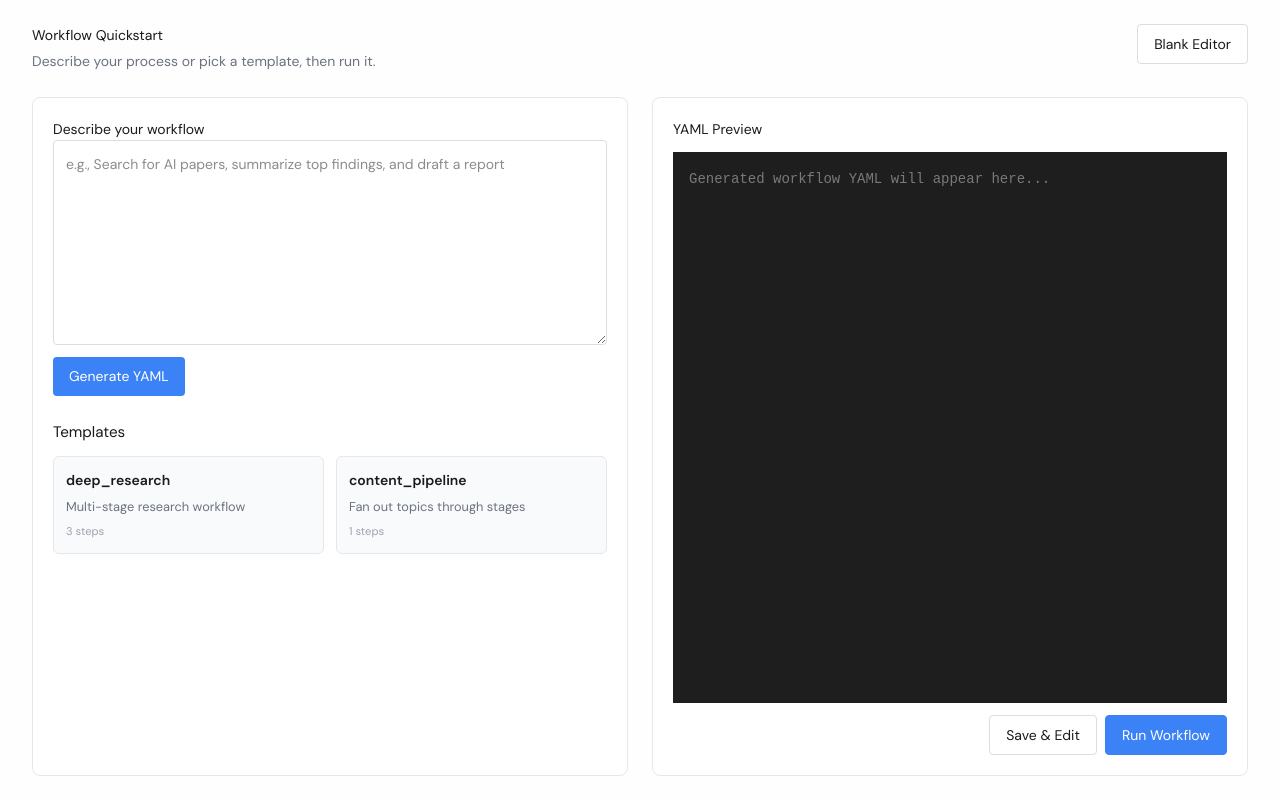
Test: WorkflowQuickstart › generates YAML from natural language prompt
expect the text "deep_research" is shown: met, box [66,469,170,491]
Type "Search and summarize papers" into the text box with placeholder "Search for AI papers" at (330, 243), box [53,140,607,345]
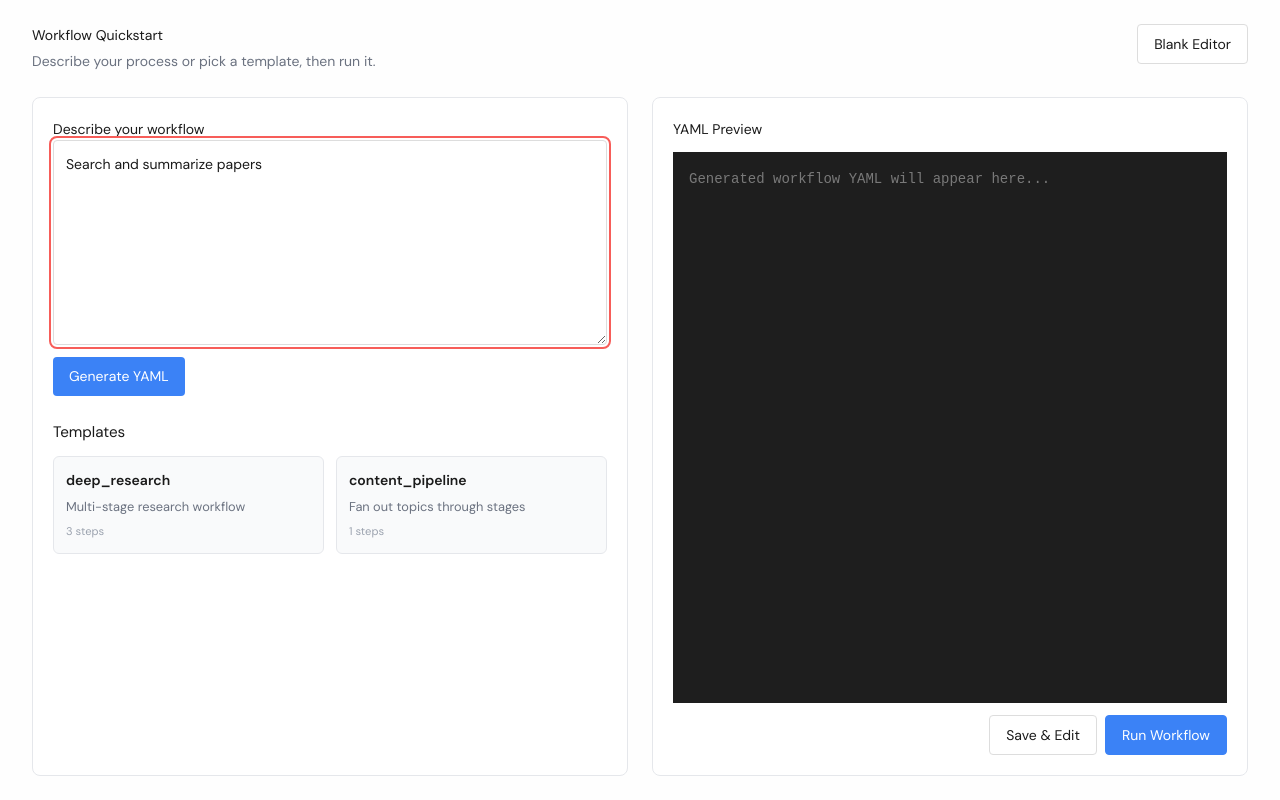
Click the button "Generate YAML" at (119, 376), box [53,357,185,396]
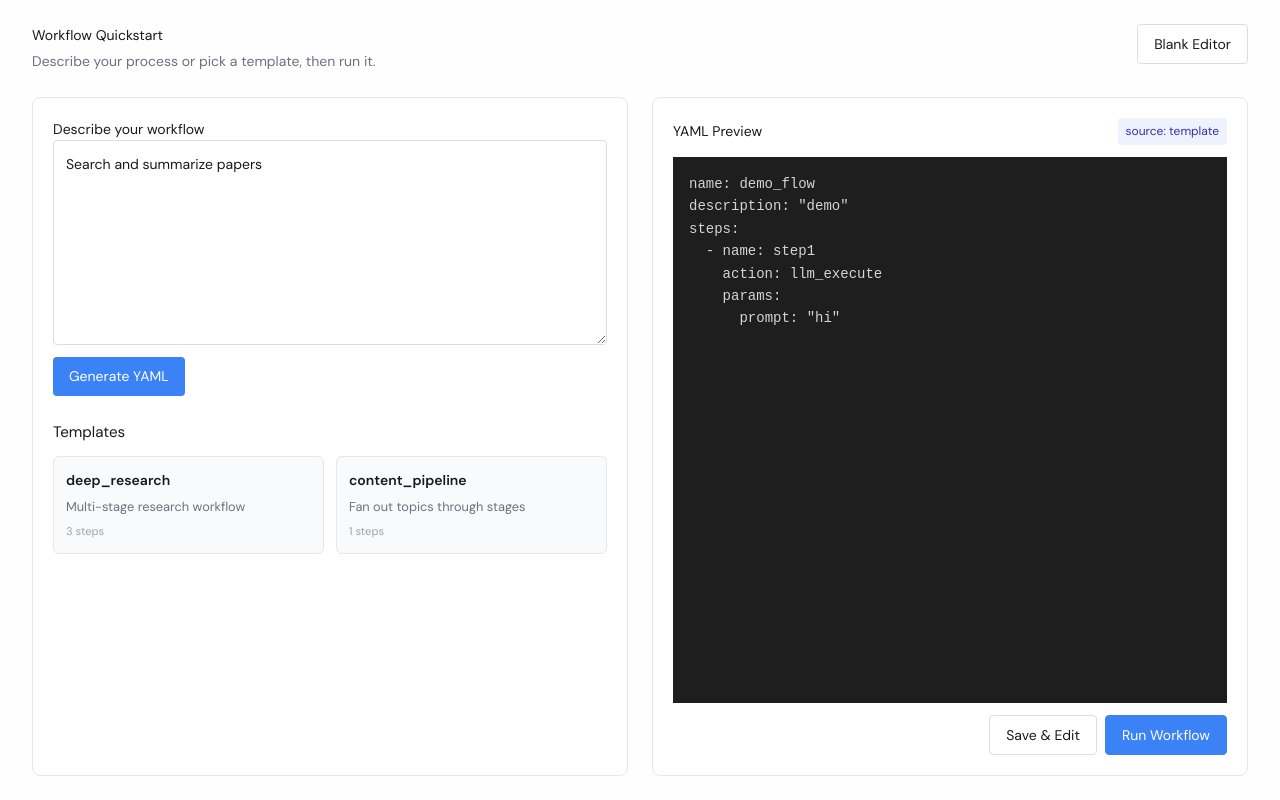
expect the text box showing "name: demo_flow" below "YAML Preview" is shown: met, box [673,157,1227,703]
expect the text "source: template" is shown: met, box [1118,118,1227,145]
